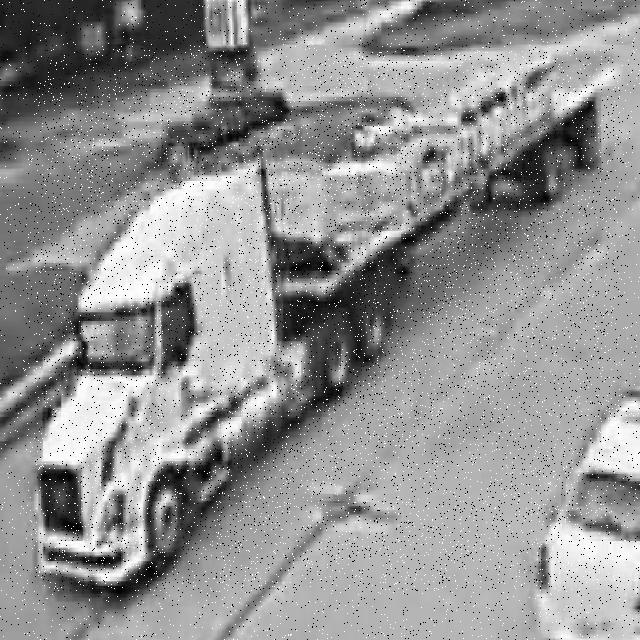Box Truck: (35, 49, 621, 591)
